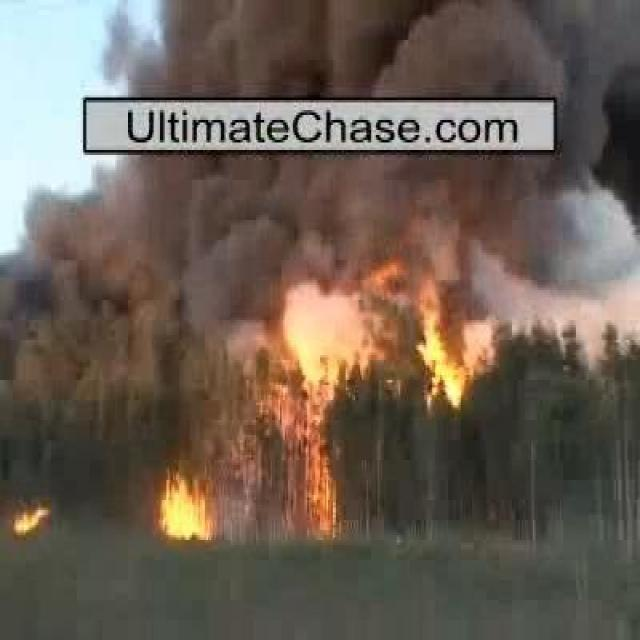fire: (158, 486, 208, 537)
smoke: (63, 165, 622, 278), (102, 4, 575, 98)
